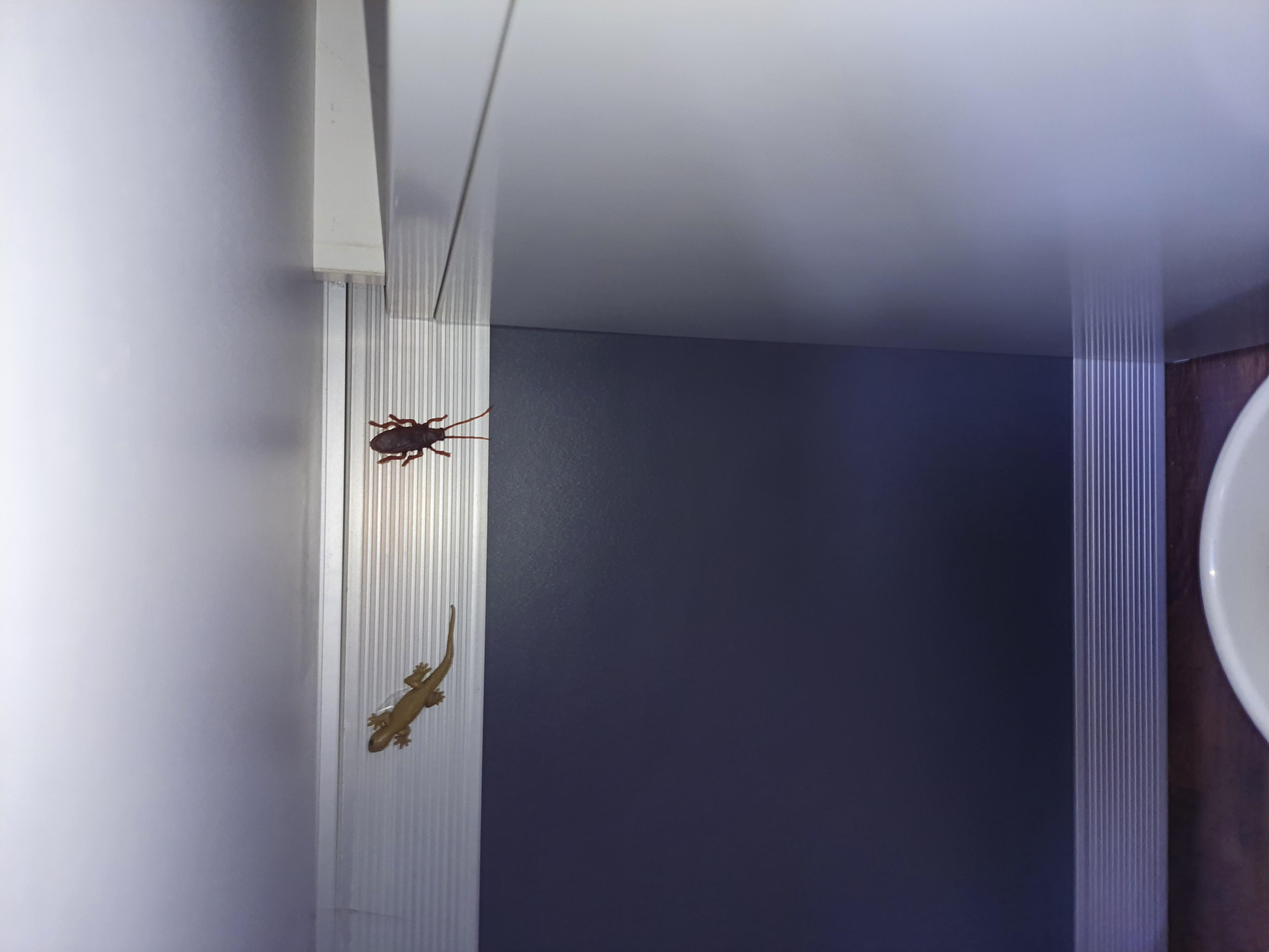cockroach: (634, 270, 747, 374)
lizard: (246, 264, 457, 348)
